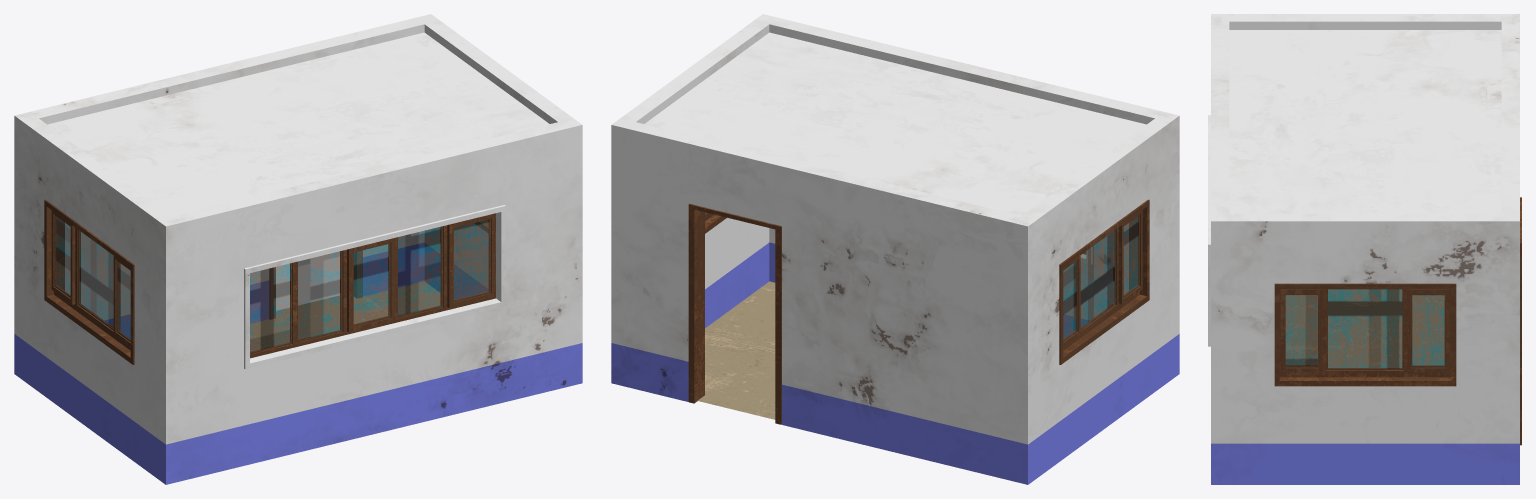
3 renders of one model, left to right at view 1: azimuth 30°, elevation 25°; view 2: azimuth 150°, elevation 25°; view 3: azimuth 270°, elevation 25°, orthographic.
Parts seen in each view (by area): view 1: Casa, Janelas, Chao; view 2: Casa, Chao, Janelas; view 3: Casa, Janelas, Chao.
Boxes of the visible parts, box(x1,y1,x2,y2) form: Casa: box(14, 14, 582, 484); Janelas: box(51, 210, 495, 358); Chao: box(250, 281, 439, 351); Casa: box(611, 14, 1179, 484); Chao: box(697, 281, 775, 419); Janelas: box(705, 210, 1142, 350); Casa: box(1208, 14, 1521, 484); Janelas: box(1279, 289, 1451, 377); Chao: box(1286, 289, 1444, 367).
Size of the model in its own units: 544 by 320 by 345.
5 materials, 5 textured.
